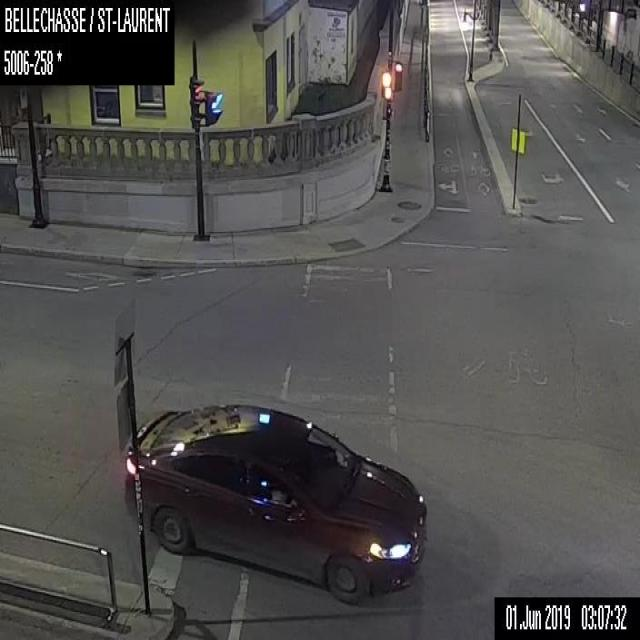vehicle: (125, 402, 427, 606)
